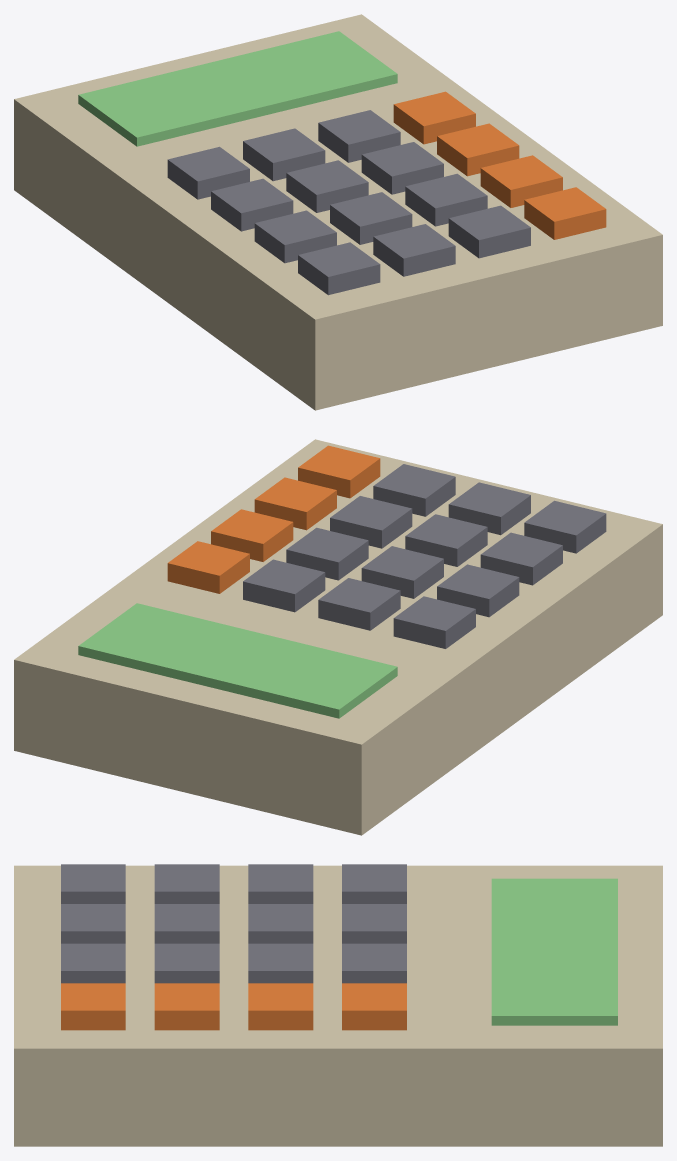
The model's file is endless_calculator.glb.
The picture shows the model from 3 angles, top to bottom: view 1: azimuth 30°, elevation 25°; view 2: azimuth 150°, elevation 25°; view 3: azimuth 270°, elevation 25°; orthographic projection. The views are drawn at different scales.
Parts seen in each view (by area): view 1: body_calc_beige, screen_calc_screen, key30_calc_key, key33_calc_orange, key31_calc_key, key32_calc_key, key12_calc_key, key23_calc_orange, key10_calc_key, key20_calc_key, key00_calc_key, key02_calc_key (+6 smaller); view 2: body_calc_beige, screen_calc_screen, key02_calc_key, key03_calc_orange, key01_calc_key, key00_calc_key, key22_calc_key, key10_calc_key, key20_calc_key, key30_calc_key, key21_calc_key, key23_calc_orange (+6 smaller); view 3: body_calc_beige, screen_calc_screen, key13_calc_orange, key23_calc_orange, key03_calc_orange, key33_calc_orange, key12_calc_key, key22_calc_key, key02_calc_key, key32_calc_key, key10_calc_key, key11_calc_key (+6 smaller).
Boxes of the visible parts, <box> form: body_calc_beige: <box>14,14,662,410</box>; screen_calc_screen: <box>78,31,397,146</box>; key30_calc_key: <box>298,242,380,295</box>; key33_calc_orange: <box>524,187,606,239</box>; key31_calc_key: <box>373,224,455,276</box>; key32_calc_key: <box>448,205,530,258</box>; key12_calc_key: <box>361,142,443,194</box>; key23_calc_orange: <box>480,155,562,207</box>; key10_calc_key: <box>211,178,293,231</box>; key20_calc_key: <box>254,210,336,263</box>; key00_calc_key: <box>167,146,249,199</box>; key02_calc_key: <box>318,110,400,162</box>; body_calc_beige: <box>14,439,662,835</box>; screen_calc_screen: <box>78,603,397,718</box>; key02_calc_key: <box>243,559,325,612</box>; key03_calc_orange: <box>167,541,249,593</box>; key01_calc_key: <box>318,578,400,630</box>; key00_calc_key: <box>393,596,475,648</box>; key22_calc_key: <box>330,496,412,548</box>; key10_calc_key: <box>437,564,519,617</box>; key20_calc_key: <box>480,532,562,585</box>; key30_calc_key: <box>524,500,606,553</box>; key21_calc_key: <box>405,514,487,566</box>; key23_calc_orange: <box>254,477,336,530</box>; body_calc_beige: <box>14,865,662,1146</box>; screen_calc_screen: <box>491,878,617,1025</box>; key13_calc_orange: <box>248,983,313,1030</box>; key23_calc_orange: <box>154,983,219,1030</box>; key03_calc_orange: <box>342,983,406,1030</box>; key33_calc_orange: <box>61,983,125,1030</box>; key12_calc_key: <box>248,943,313,983</box>; key22_calc_key: <box>154,943,219,983</box>; key02_calc_key: <box>342,943,406,983</box>; key32_calc_key: <box>61,943,125,983</box>; key10_calc_key: <box>248,864,313,903</box>; key11_calc_key: <box>248,904,313,943</box>.
Size of the model in its own units: 0.12 by 0.036 by 0.18.
